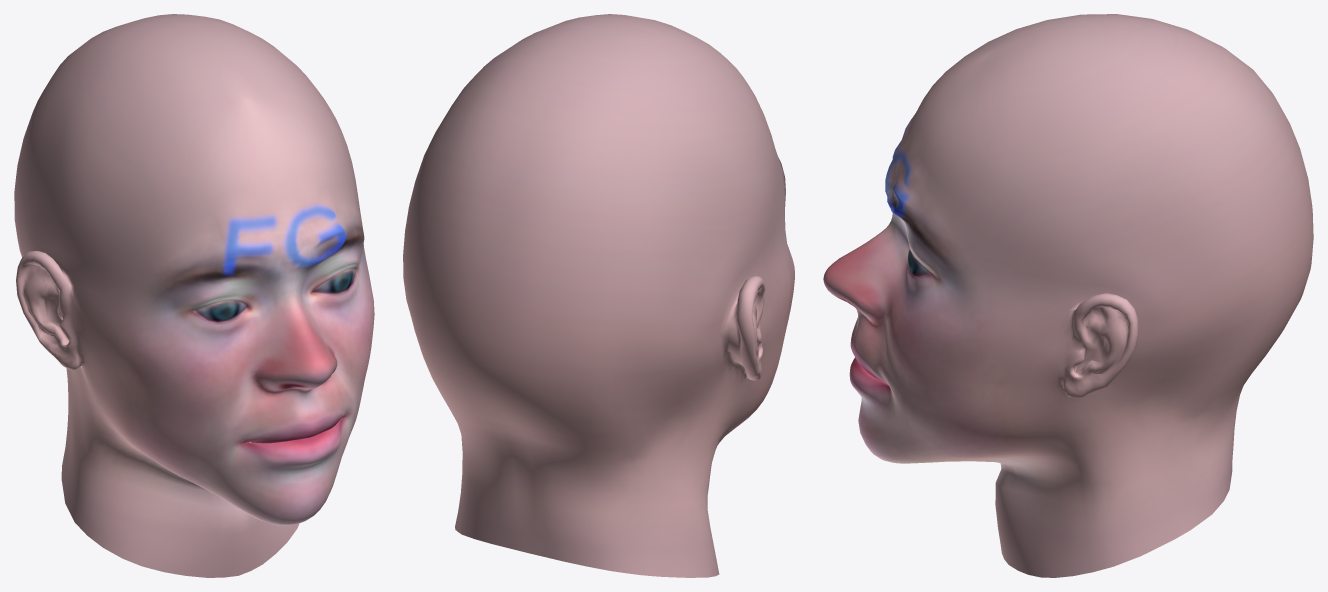
Rendered from avg_anyrace_female_08.obj.
The picture shows the model from 3 angles, left to right: view 1: azimuth 30°, elevation 25°; view 2: azimuth 150°, elevation 25°; view 3: azimuth 270°, elevation 25°; orthographic projection. The views are drawn at different scales.
Visible parts, largest first — view 1: HeadHires; view 2: HeadHires; view 3: HeadHires.
Part boxes in pixels (left/top/right/bottom): HeadHires: left=14, top=14, right=374, bottom=577; HeadHires: left=403, top=14, right=794, bottom=577; HeadHires: left=823, top=14, right=1313, bottom=577.
Size of the model in its own units: 187 by 283 by 239.
1 material, 1 textured.
